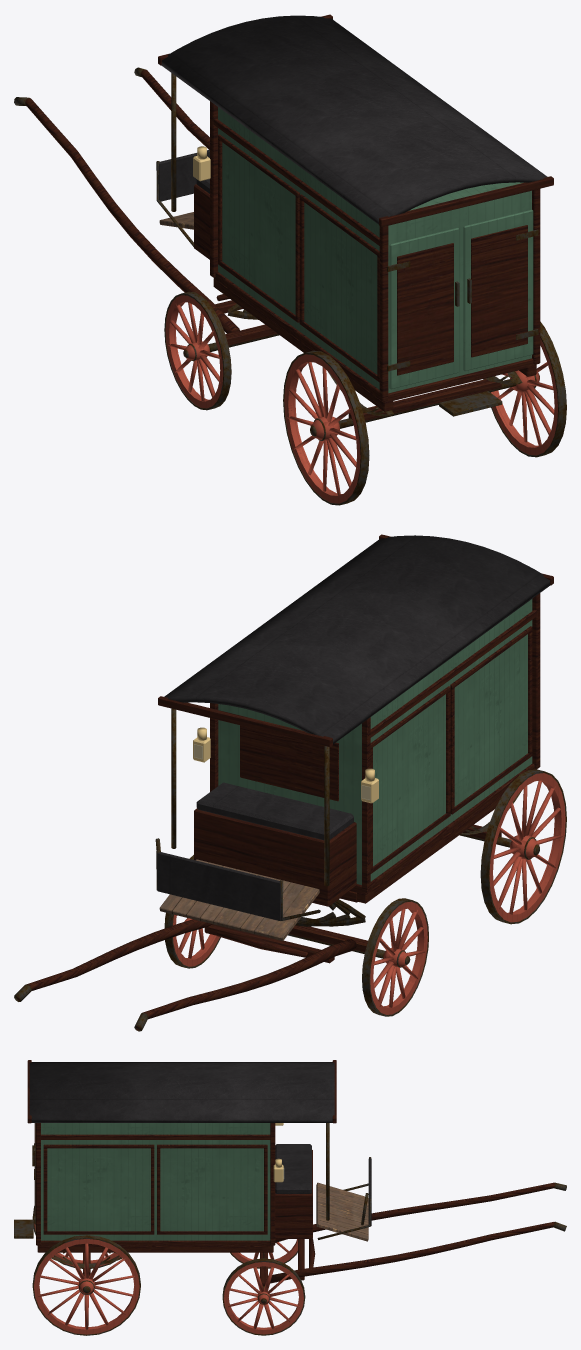
Rendered from wagon_delivery.glb.
3 renders of one model, top to bottom at view 1: azimuth 30°, elevation 25°; view 2: azimuth 150°, elevation 25°; view 3: azimuth 270°, elevation 25°, orthographic. The views are drawn at different scales.
Parts seen in each view (by area): view 1: wagon_delivery; view 2: wagon_delivery; view 3: wagon_delivery.
Boxes of the visible parts, x1=… form: wagon_delivery: x1=14, y1=14, x2=566, y2=505; wagon_delivery: x1=14, y1=534, x2=566, y2=1031; wagon_delivery: x1=14, y1=1060, x2=566, y2=1335.
Bounding box in the file's own units: 1.83 × 2.49 × 5.62.
Materials: 8 (6 with a texture image).
